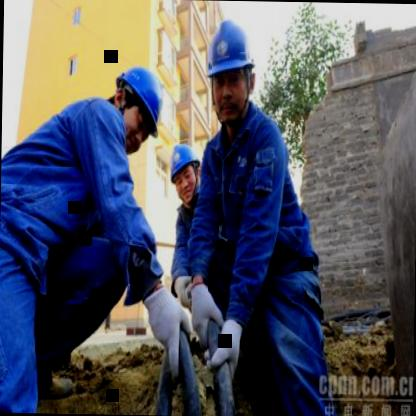helmet: (198, 6, 261, 132), (112, 64, 172, 146), (167, 136, 201, 207)
